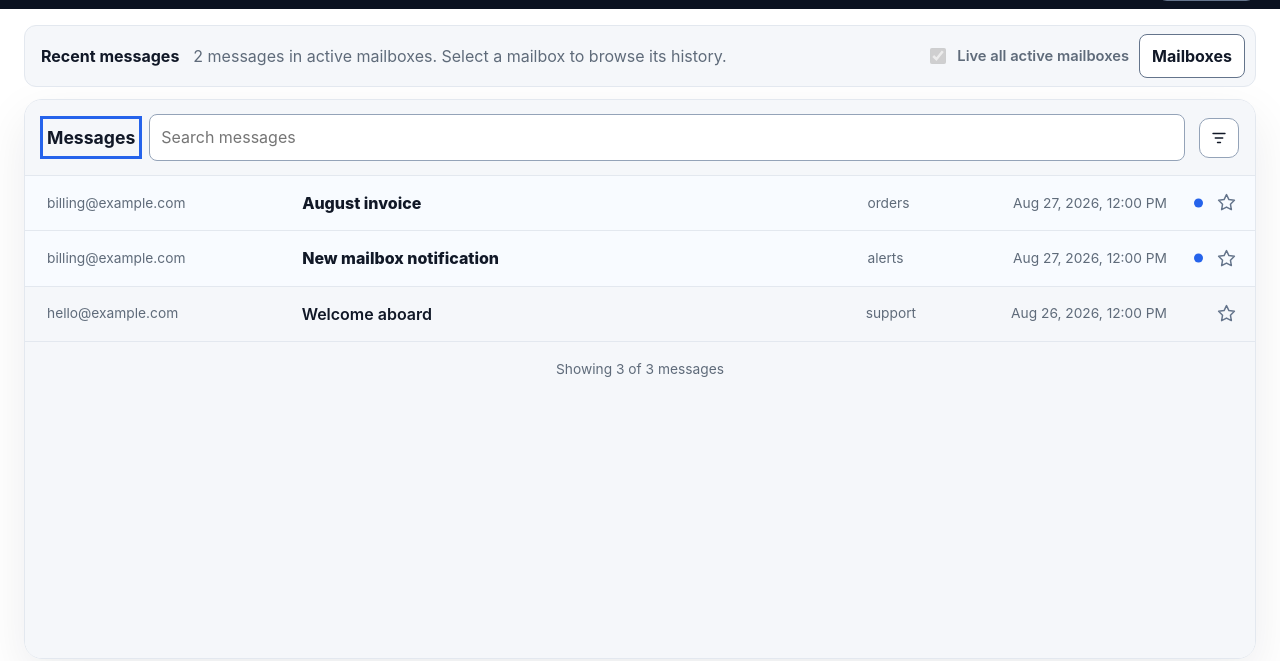
Test: recent messages › shows a live arrival from a new mailbox without selecting any mailbox
Expected: the button with aria-label "Unread: August invoice" is shown, [25,176,1255,230]
Expected: the button with aria-label "Unread: New mailbox notification" is shown, [25,231,1255,286]
Click the heading named "Manage saved mailboxes" at (1192, 56), box [1139,34,1245,78]
(page scrolled)
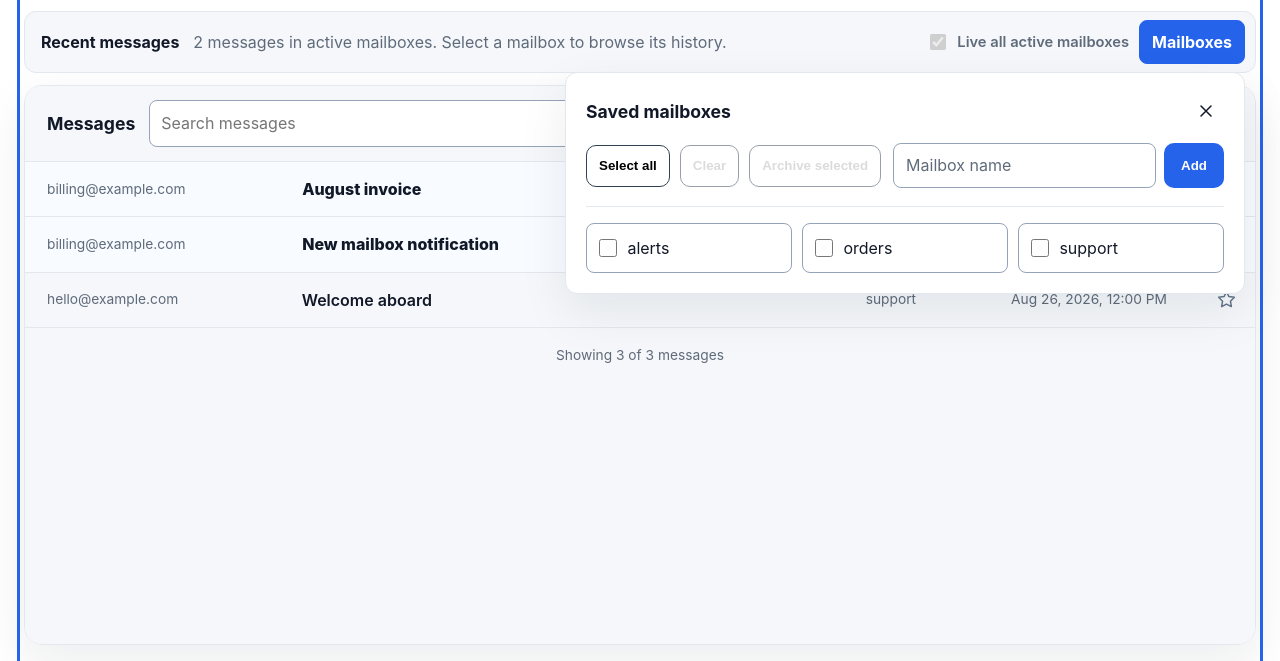
Expected: the checkbox labelled "orders" is not checked, [815,239,833,257]
Expected: the checkbox labelled "support" is not checked, [1031,239,1049,257]
Expected: the checkbox labelled "alerts" is not checked, [599,239,617,257]
